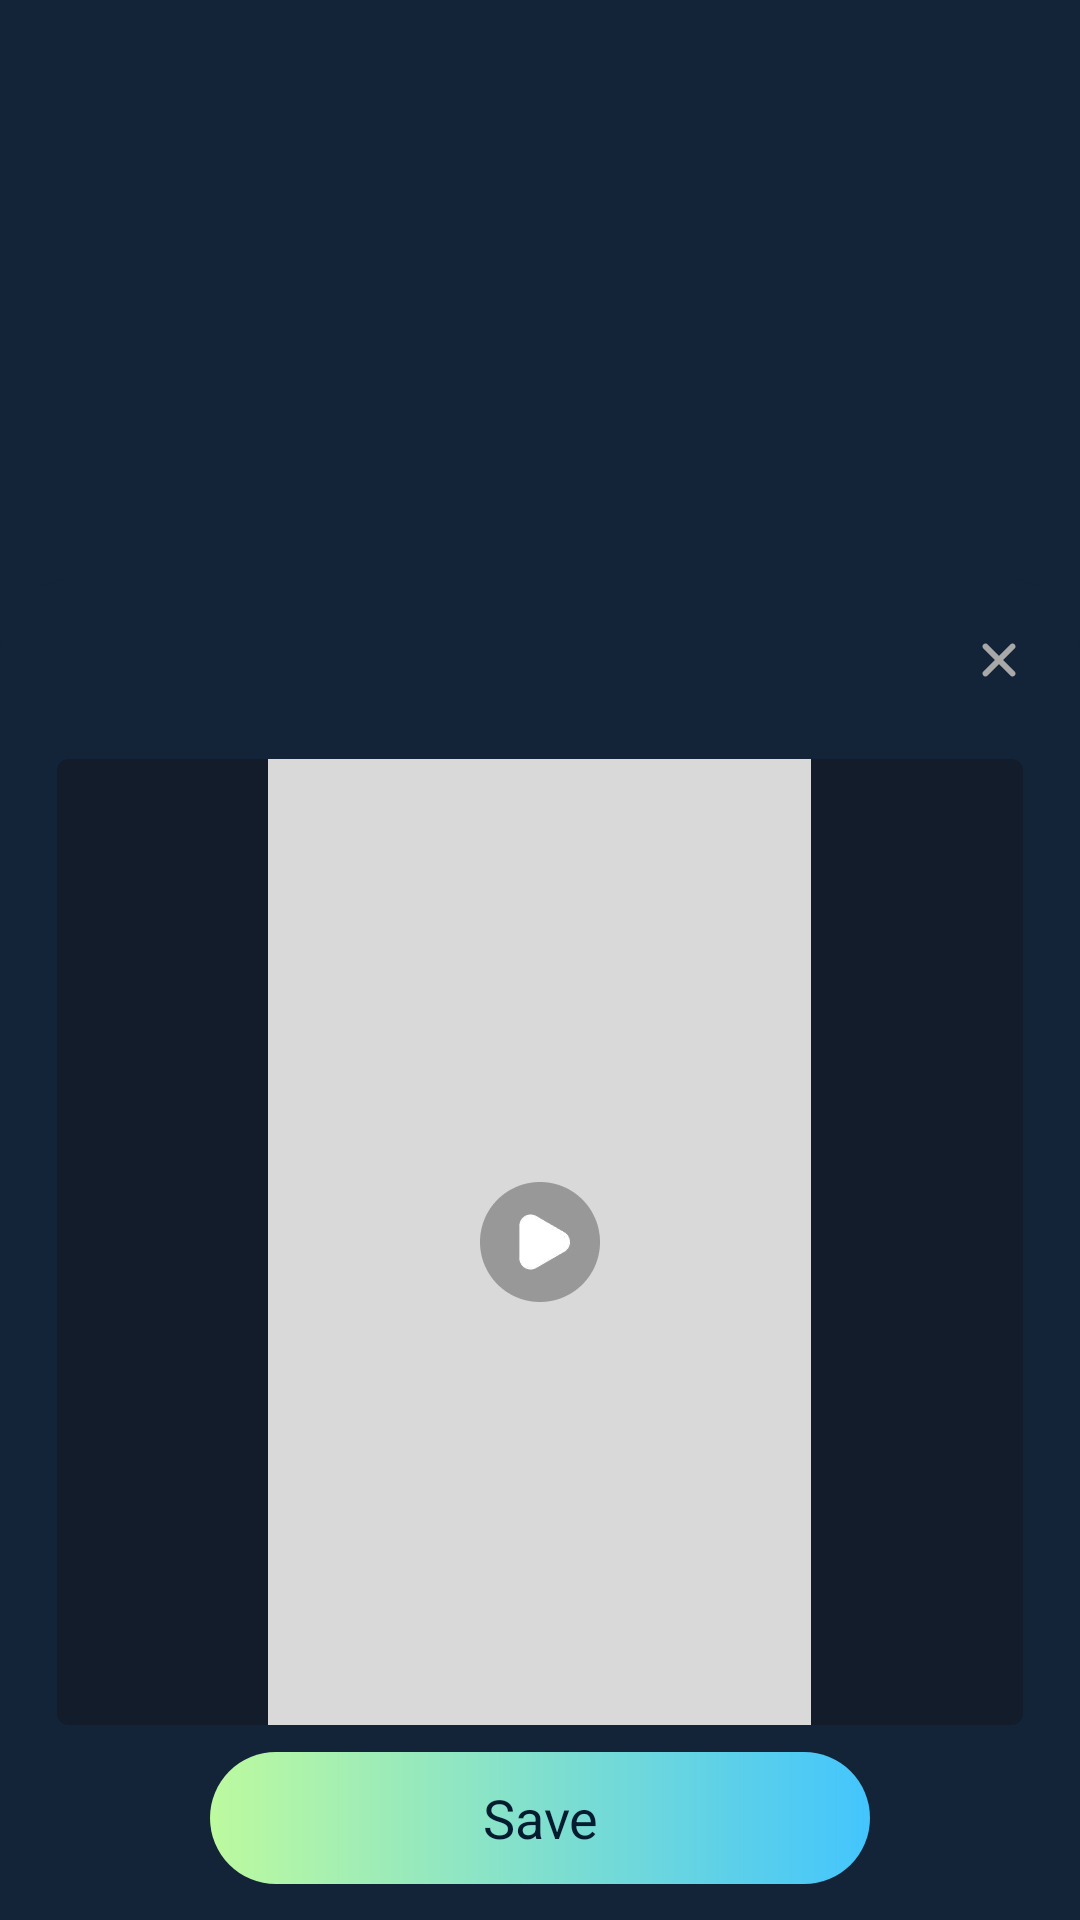

Icon bounding boxes for this 1080x1920 phone screenshot, format rect(x1, y1, x2, y2):
close: rect(982, 643, 1016, 677)
play: rect(480, 1182, 600, 1302)
